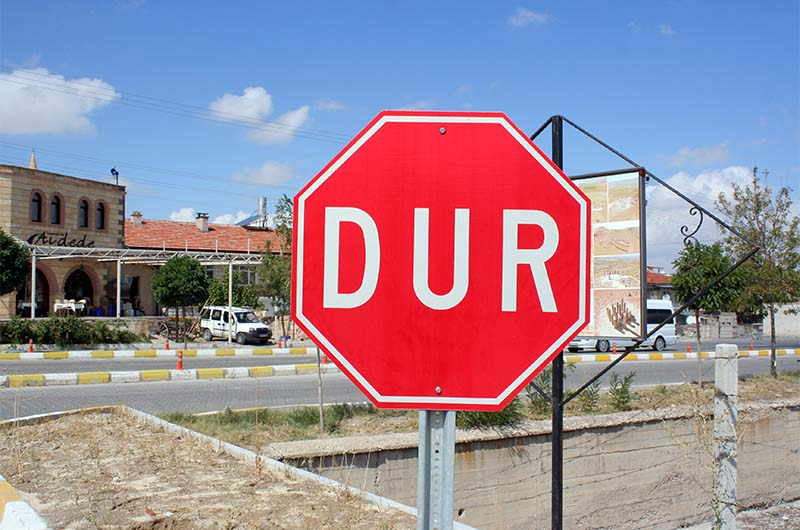dur: (286, 101, 590, 419)
otomobil: (187, 297, 270, 362)
